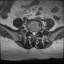CCS_normal: (33, 29, 35, 36)
LFS_severe_stenosis: (37, 30, 39, 34)
LLS_normal: (35, 30, 37, 35)
RFS_severe_stenosis: (29, 28, 31, 33)
RLS_normal: (31, 30, 33, 35)
